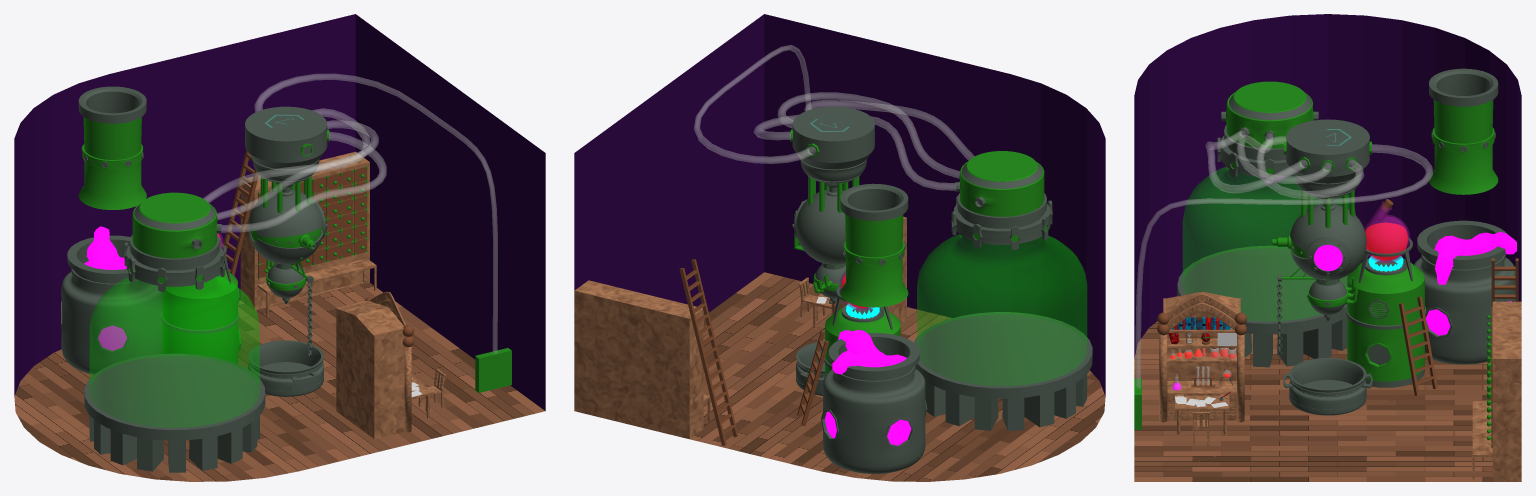
Rendered from Demo_Room-002.glb.
3 renders of one model, left to right at view 1: azimuth 30°, elevation 25°; view 2: azimuth 150°, elevation 25°; view 3: azimuth 270°, elevation 25°, orthographic.
Visible parts, largest first — view 1: Room, Cuve.003, Support_Cuve, Cuve.002, Bureau, Hote, Cylinder.032, Chaud, Armoir, Cylinder.008, Rangement, Cuve.001 (+10 smaller); view 2: Room, Cuve.003, Support_Cuve, Armoir, Cuve.002, Hote, Cylinder.032, Cylinder.008, Cuve.001, Echelle.001, Pipe.005, Pipe.002 (+9 smaller); view 3: Room, Cuve.003, Support_Cuve, Cuve.002, Chaud, Hote, Bureau, Armoir, Cylinder.008, Cylinder.032, Cuve.001, Marmite (+18 smaller).
Part boxes in pixels (x1=…): Room: x1=14, y1=14, x2=545, y2=481; Cuve.003: x1=90, y1=237, x2=259, y2=427; Support_Cuve: x1=84, y1=353, x2=265, y2=472; Cuve.002: x1=61, y1=235, x2=162, y2=374; Bureau: x1=336, y1=301, x2=411, y2=438; Hote: x1=78, y1=86, x2=146, y2=209; Cylinder.032: x1=130, y1=192, x2=221, y2=267; Chaud: x1=161, y1=269, x2=241, y2=364; Armoir: x1=240, y1=151, x2=376, y2=316; Cylinder.008: x1=245, y1=106, x2=329, y2=196; Rangement: x1=258, y1=166, x2=367, y2=278; Cuve.001: x1=248, y1=189, x2=327, y2=264; Room: x1=574, y1=14, x2=1105, y2=481; Cuve.003: x1=917, y1=196, x2=1086, y2=385; Support_Cuve: x1=914, y1=312, x2=1092, y2=430; Armoir: x1=574, y1=280, x2=710, y2=439; Cuve.002: x1=821, y1=333, x2=927, y2=473; Hote: x1=840, y1=183, x2=908, y2=307; Cylinder.032: x1=955, y1=151, x2=1046, y2=226; Cylinder.008: x1=790, y1=106, x2=874, y2=196; Cuve.001: x1=792, y1=189, x2=845, y2=264; Echelle.001: x1=679, y1=259, x2=738, y2=445; Pipe.005: x1=694, y1=45, x2=815, y2=163; Pipe.002: x1=778, y1=92, x2=959, y2=178; Room: x1=1134, y1=14, x2=1521, y2=481; Cuve.003: x1=1183, y1=135, x2=1355, y2=321; Support_Cuve: x1=1177, y1=245, x2=1347, y2=367; Cuve.002: x1=1414, y1=220, x2=1515, y2=364; Chaud: x1=1346, y1=258, x2=1426, y2=387; Hote: x1=1429, y1=68, x2=1498, y2=194; Bureau: x1=1159, y1=291, x2=1244, y2=422; Armoir: x1=1472, y1=301, x2=1521, y2=481; Cylinder.008: x1=1284, y1=119, x2=1371, y2=210; Cylinder.032: x1=1221, y1=81, x2=1318, y2=158; Cuve.001: x1=1272, y1=204, x2=1366, y2=280; Marmite: x1=1283, y1=357, x2=1372, y2=415.
Bounding box in the file's own units: 5 × 3 × 4.
22 materials, 6 textured.
